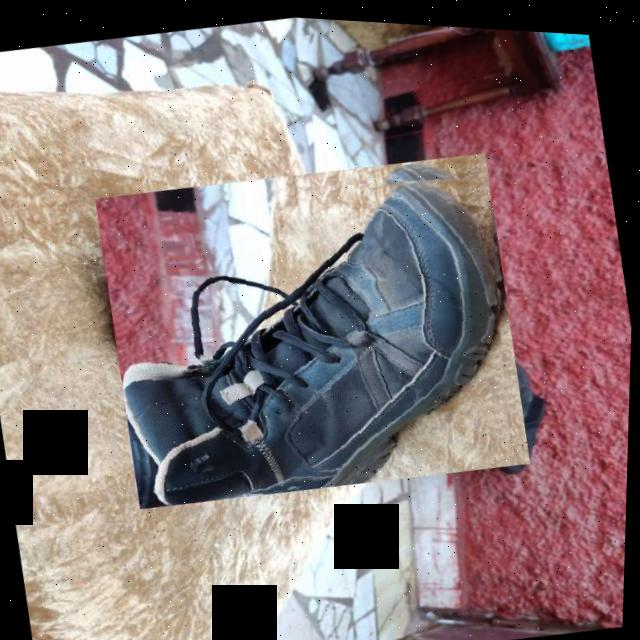shoe: (89, 128, 540, 525)
